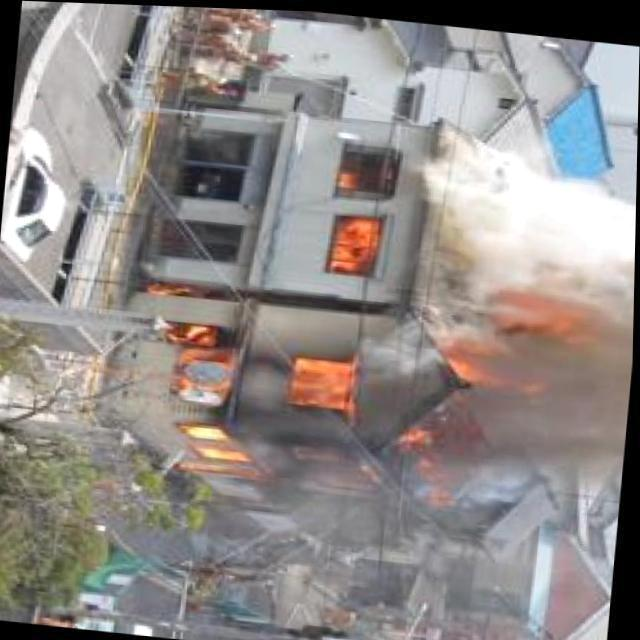fire: (106, 276, 467, 508), (463, 276, 569, 406), (323, 158, 383, 274)
